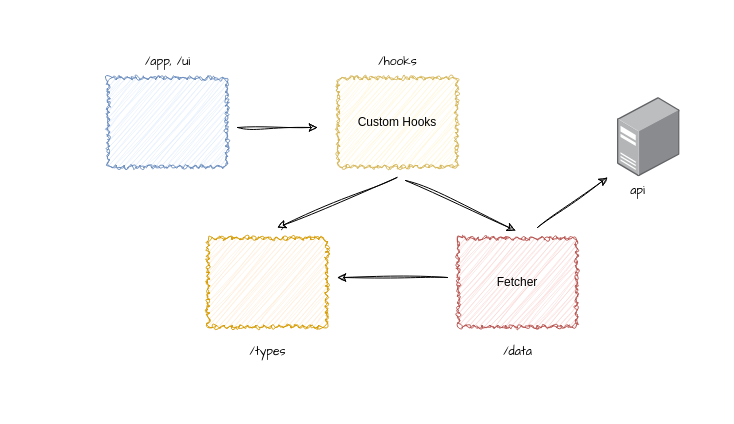
Some shapes in this 734 by 424 pixel diagram are drawn without their labels. The shapes that lost their labels are listed below. From the top down, each one's centre as x and y in pixels, then its label:
At point (167, 122): "Components".
At point (267, 282): "Domain Objects".
